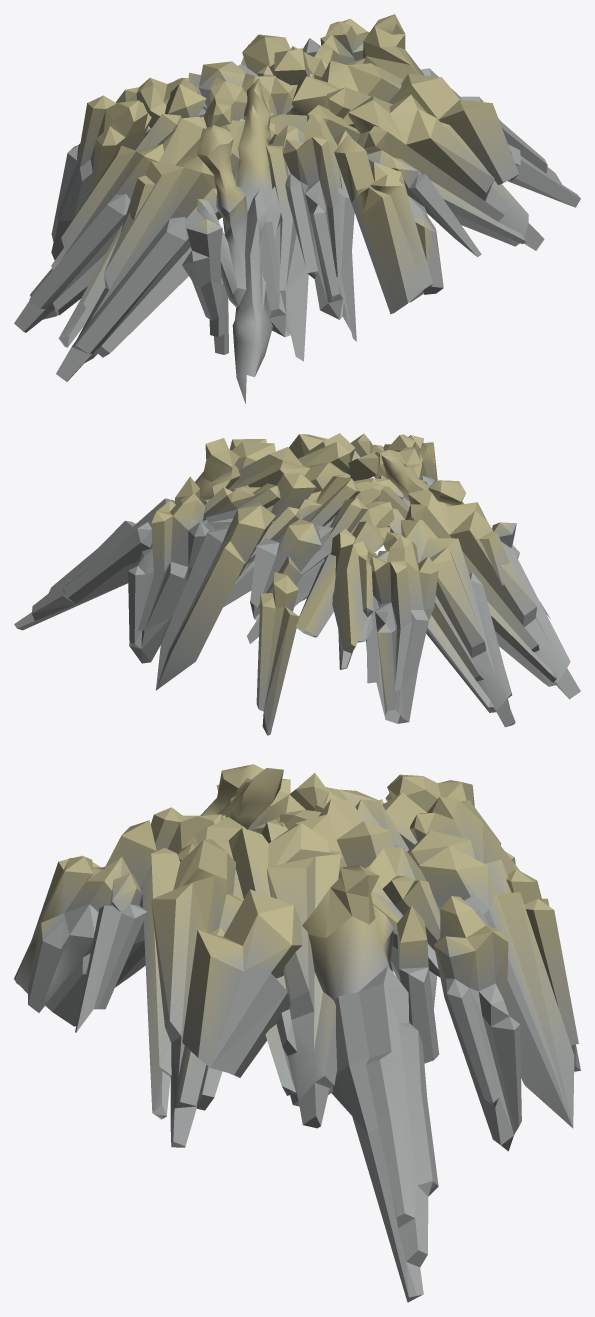
3 renders of one model, top to bottom at view 1: azimuth 30°, elevation 25°; view 2: azimuth 150°, elevation 25°; view 3: azimuth 270°, elevation 25°, orthographic. The views are drawn at different scales.
Visible parts, largest first — view 1: G:\FFXIV-MapTools\exports\l1f1\bg\ffxiv\lak_l1\fld\l1f1\bgpa; view 2: G:\FFXIV-MapTools\exports\l1f1\bg\ffxiv\lak_l1\fld\l1f1\bgpa; view 3: G:\FFXIV-MapTools\exports\l1f1\bg\ffxiv\lak_l1\fld\l1f1\bgpa.
Part boxes in pixels (x1,y1,x2,y2): G:\FFXIV-MapTools\exports\l1f1\bg\ffxiv\lak_l1\fld\l1f1\bgpa: (14, 14, 580, 403); G:\FFXIV-MapTools\exports\l1f1\bg\ffxiv\lak_l1\fld\l1f1\bgpa: (14, 433, 580, 735); G:\FFXIV-MapTools\exports\l1f1\bg\ffxiv\lak_l1\fld\l1f1\bgpa: (14, 764, 580, 1302).
Bounding box in the file's own units: 7.21 × 2.99 × 4.89.
